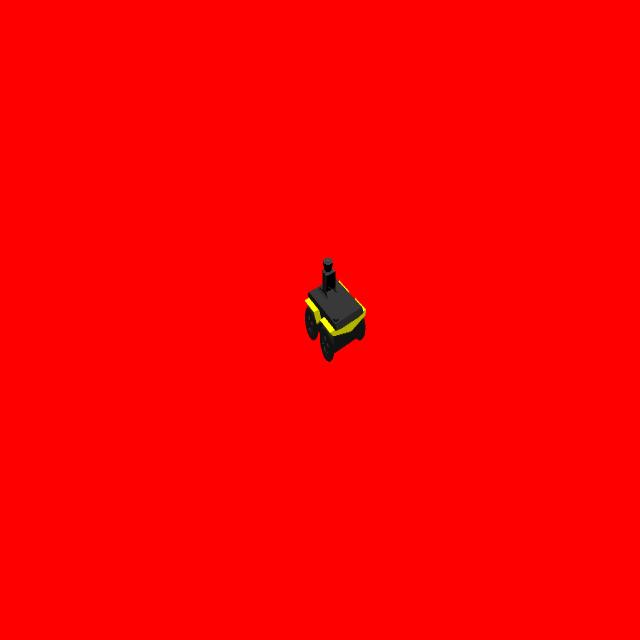jackal: (302, 257, 368, 363)
